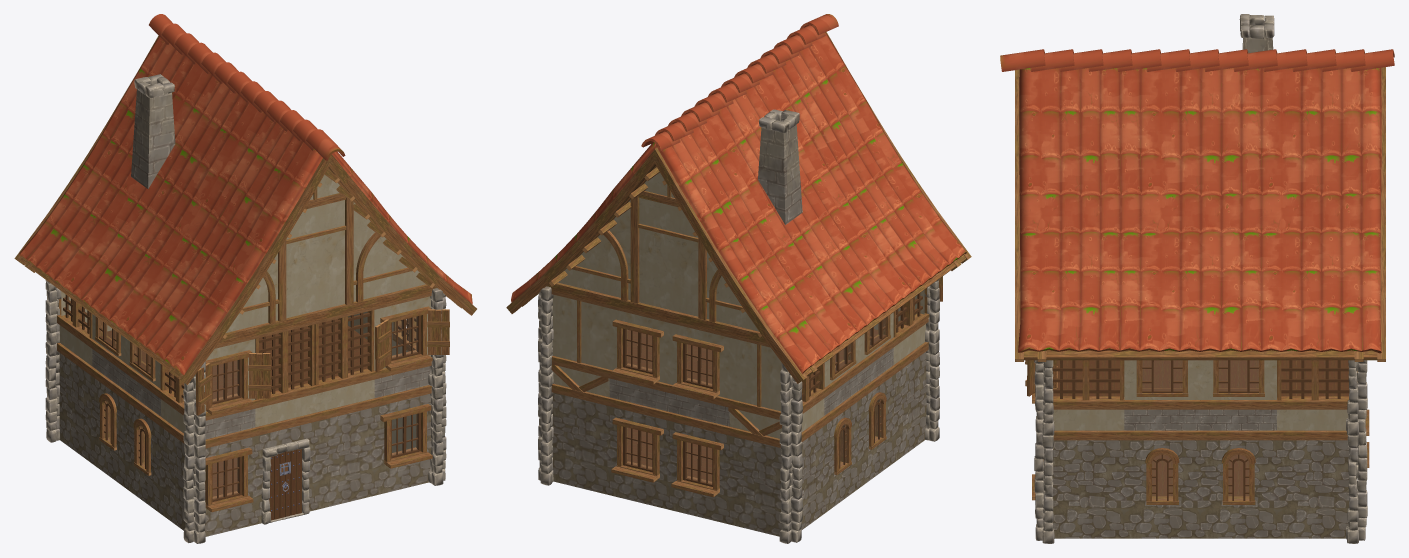
The model's file is house_plaster_wide.gltf.
3 renders of one model, left to right at view 1: azimuth 30°, elevation 25°; view 2: azimuth 150°, elevation 25°; view 3: azimuth 270°, elevation 25°, orthographic. The views are drawn at different scales.
Parts seen in each view (by area): view 1: Roof_RoundTiles_8x8, Roof_Front_Brick8, Wall_UnevenBrick_Straight, Wall_Plaster_WoodGrid.001, Wall_Plaster_WoodGrid, Prop_Chimney, Wall_UnevenBrick_Straight.003, Wall_UnevenBrick_Window_Wide_Flat.001, Wall_UnevenBrick_Window_Thin_Round, Wall_UnevenBrick_Window_Thin_Round.001, Wall_UnevenBrick_Window_Wide_Flat, Wall_UnevenBrick_Door_Flat (+28 smaller); view 2: Roof_RoundTiles_8x8, Roof_Front_Brick8.001, Wall_UnevenBrick_Straight.001, Wall_Plaster_Straight, Wall_UnevenBrick_Straight.002, Wall_Plaster_Straight.001, Prop_Chimney, Wall_UnevenBrick_Window_Wide_Flat.003, Wall_UnevenBrick_Window_Wide_Flat.002, Wall_UnevenBrick_Straight.004, Wall_Plaster_Window_Wide_Flat.002, Wall_Plaster_Window_Wide_Flat.003 (+25 smaller); view 3: Roof_RoundTiles_8x8, Wall_UnevenBrick_Straight.005, Wall_UnevenBrick_Straight.006, Wall_UnevenBrick_Window_Thin_Round.002, Wall_UnevenBrick_Window_Thin_Round.003, Wall_Plaster_WoodGrid.004, Wall_Plaster_WoodGrid.005, Wall_Plaster_Window_Wide_Round.003, Wall_Plaster_Window_Wide_Round.002, Corner_Exterior_Brick.002, Corner_Exterior_Brick.001, Corner_Exterior_Brick.006 (+10 smaller).
Part boxes in pixels (x1,y1,x2,y2): Roof_RoundTiles_8x8: [14, 14, 476, 384]; Roof_Front_Brick8: [217, 169, 436, 345]; Wall_UnevenBrick_Straight: [315, 398, 376, 510]; Wall_Plaster_WoodGrid.001: [314, 306, 376, 412]; Wall_Plaster_WoodGrid: [255, 321, 316, 427]; Prop_Chimney: [131, 74, 175, 188]; Wall_UnevenBrick_Straight.003: [57, 342, 92, 463]; Wall_UnevenBrick_Window_Wide_Flat.001: [374, 385, 431, 495]; Wall_UnevenBrick_Window_Thin_Round: [89, 366, 126, 488]; Wall_UnevenBrick_Window_Thin_Round.001: [124, 391, 160, 513]; Wall_UnevenBrick_Window_Wide_Flat: [205, 427, 256, 536]; Wall_UnevenBrick_Door_Flat: [255, 413, 316, 524]; Roof_RoundTiles_8x8: [506, 14, 971, 383]; Roof_Front_Brick8.001: [547, 167, 767, 343]; Wall_UnevenBrick_Straight.001: [551, 383, 609, 494]; Wall_Plaster_Straight: [551, 291, 609, 397]; Wall_UnevenBrick_Straight.002: [728, 427, 782, 536]; Wall_Plaster_Straight.001: [728, 334, 782, 438]; Prop_Chimney: [758, 109, 802, 224]; Wall_UnevenBrick_Window_Wide_Flat.003: [668, 412, 729, 524]; Wall_UnevenBrick_Window_Wide_Flat.002: [608, 397, 669, 509]; Wall_UnevenBrick_Straight.004: [893, 342, 928, 462]; Wall_Plaster_Window_Wide_Flat.002: [608, 305, 669, 411]; Wall_Plaster_Window_Wide_Flat.003: [668, 320, 729, 426]; Roof_RoundTiles_8x8: [1000, 49, 1394, 361]; Wall_UnevenBrick_Straight.005: [1052, 430, 1124, 538]; Wall_UnevenBrick_Straight.006: [1277, 430, 1349, 538]; Wall_UnevenBrick_Window_Thin_Round.002: [1124, 430, 1200, 538]; Wall_UnevenBrick_Window_Thin_Round.003: [1200, 430, 1276, 538]; Wall_Plaster_WoodGrid.004: [1052, 360, 1124, 430]; Wall_Plaster_WoodGrid.005: [1277, 360, 1349, 430]; Wall_Plaster_Window_Wide_Round.003: [1200, 360, 1276, 430]; Wall_Plaster_Window_Wide_Round.002: [1124, 360, 1200, 430]; Corner_Exterior_Brick.002: [1346, 428, 1367, 543]; Corner_Exterior_Brick.001: [1034, 432, 1054, 543]; Corner_Exterior_Brick.006: [1346, 360, 1367, 435].
Size of what is drawn, in the model's own units: 9.95 by 12.25 by 10.33.
Materials: 9 (8 with a texture image).
